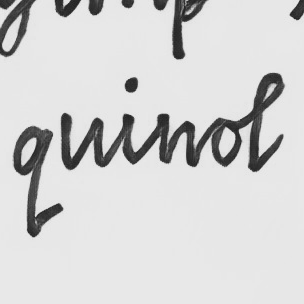i: (116, 74, 145, 165)
l: (246, 71, 287, 175)
n: (154, 111, 197, 170)
o: (207, 114, 243, 168)
q: (10, 124, 55, 239)
u: (59, 110, 106, 172)
